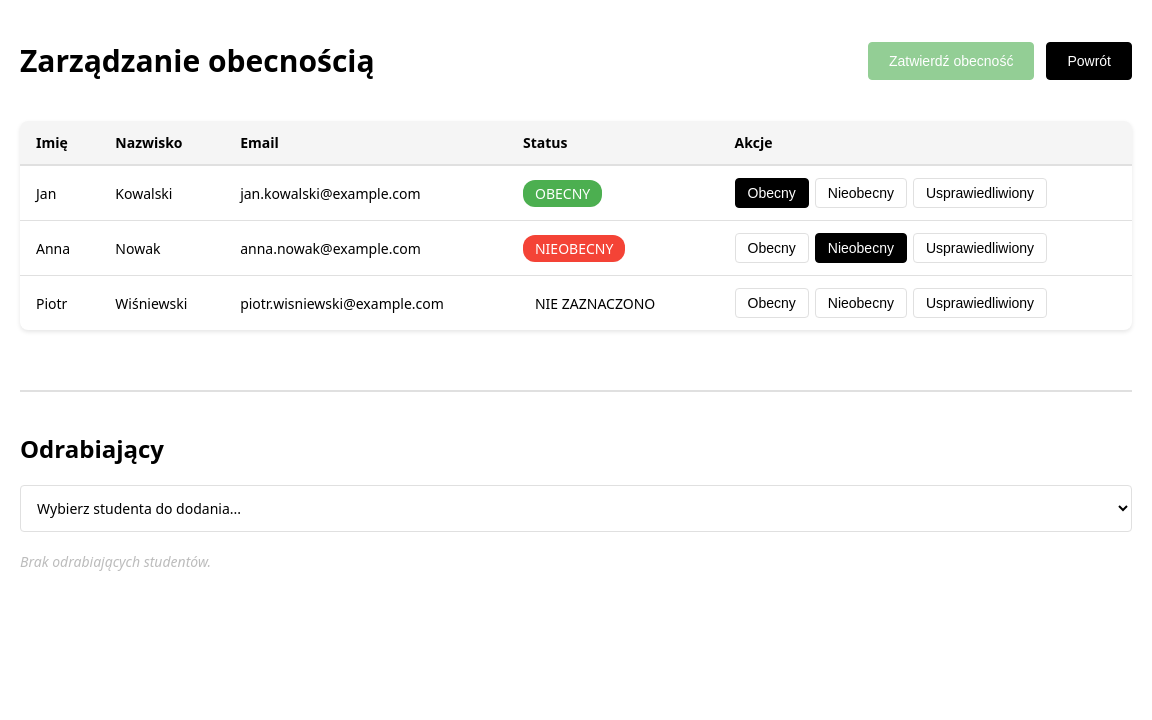
it: AttendanceManagementPage › should enable save button when changes are made
What coordinates should you click on to do the following:
click the button "Obecny" in the row of "Wiśniewski"
I would click on:
 (772, 303)
Its box is [734,288,809,318].
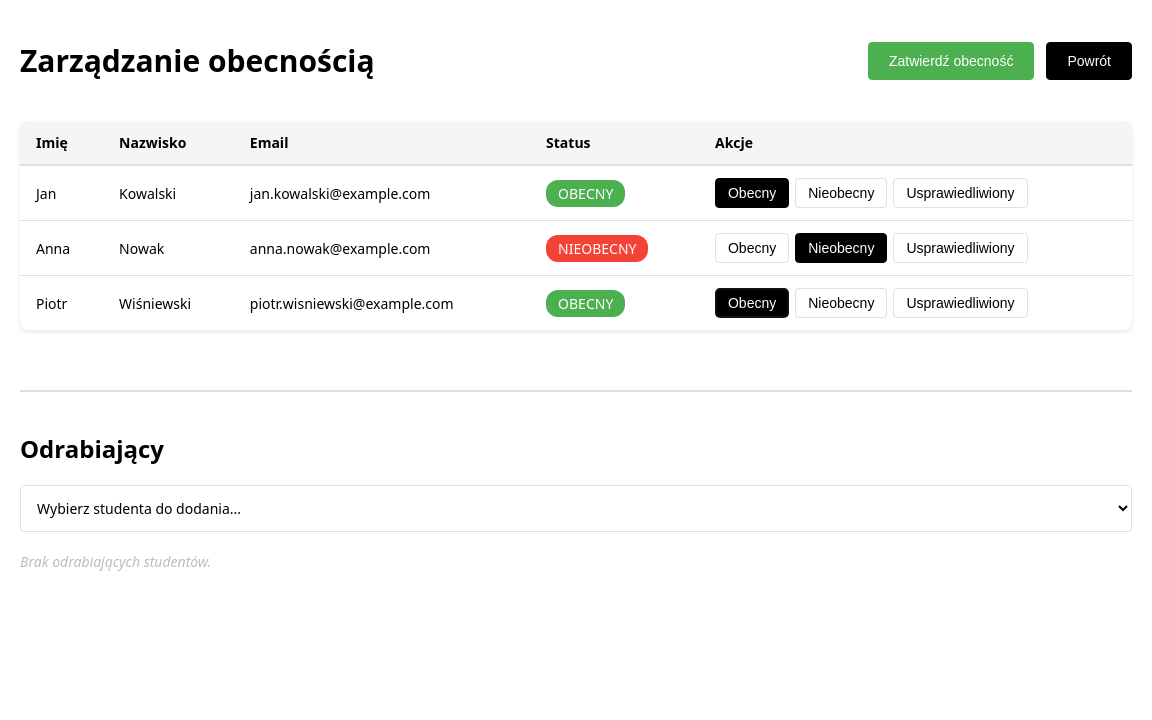
Result: the button "Zatwierdź obecność" is enabled at [868,42,1034,80]
